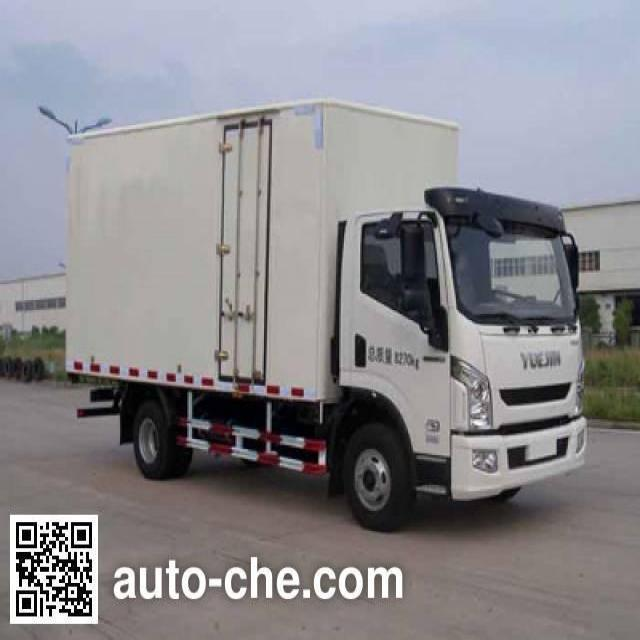covered: (46, 90, 558, 520)
